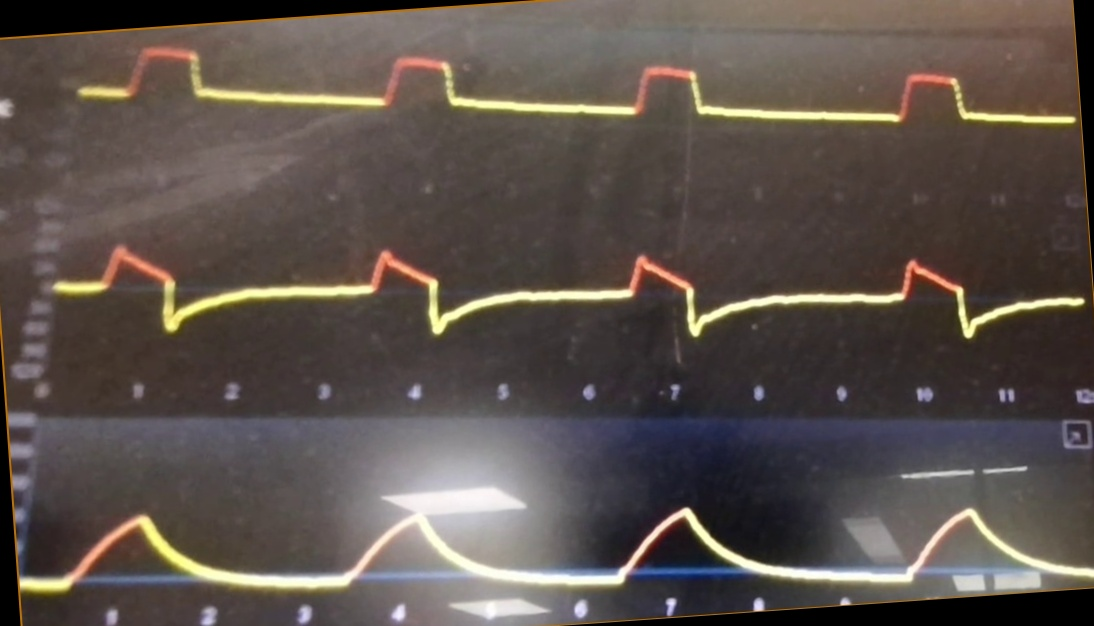Normal Flow: (55, 207, 1083, 354)
Normal Volume: (20, 463, 1094, 599)
